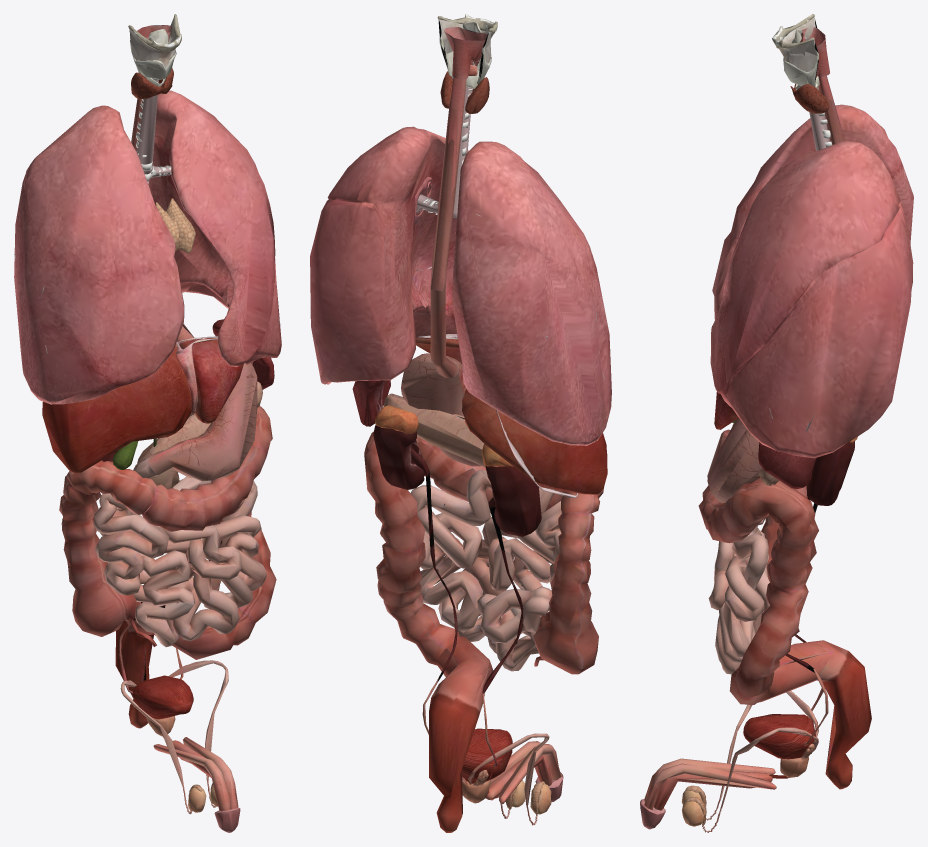
The model's file is organs.glb.
3 views of the same model, side by side, from view 1: azimuth 30°, elevation 25°; view 2: azimuth 150°, elevation 25°; view 3: azimuth 270°, elevation 25° (orthographic). The views are drawn at different scales.
Visible parts, largest first — view 1: lungs, colon, small_intestine, liver_right, stomach, liver_left, bladder, corpus_cavernosum, bronchi, vas_deferens, pancreas, thymus (+7 smaller); view 2: lungs, colon, small_intestine, liver_right, kidneys, esophagus, stomach, pancreas, ureter, bladder, corpus_cavernosum, pharynx (+8 smaller); view 3: lungs, colon, small_intestine, stomach, corpus_cavernosum, bladder, kidneys, spleen, vas_deferens, thyrohyoid_membrane, corpus_spongiosum, thyroid (+8 smaller).
Part boxes in pixels (left/top/right/bottom): lungs: left=14, top=90, right=281, bottom=404; colon: left=59, top=406, right=276, bottom=728; small_intestine: left=93, top=457, right=266, bottom=647; liver_right: left=42, top=345, right=194, bottom=473; stomach: left=147, top=363, right=257, bottom=481; liver_left: left=179, top=338, right=243, bottom=423; bladder: left=132, top=675, right=193, bottom=719; corpus_cavernosum: left=153, top=737, right=238, bottom=812; bronchi: left=14, top=78, right=280, bottom=355; vas_deferens: left=120, top=660, right=228, bottom=814; pancreas: left=137, top=381, right=262, bottom=488; thymus: left=155, top=198, right=195, bottom=253; lungs: left=310, top=126, right=611, bottom=445; colon: left=364, top=431, right=603, bottom=832; small_intestine: left=411, top=469, right=589, bottom=671; liver_right: left=462, top=389, right=607, bottom=494; kidneys: left=373, top=425, right=541, bottom=536; esophagus: left=430, top=77, right=466, bottom=378; stomach: left=401, top=353, right=481, bottom=466; pancreas: left=383, top=393, right=485, bottom=467; ureter: left=411, top=446, right=523, bottom=766; bladder: left=462, top=728, right=512, bottom=783; corpus_cavernosum: left=490, top=741, right=561, bottom=803; pharynx: left=444, top=27, right=486, bottom=79; lungs: left=710, top=104, right=913, bottom=458; colon: left=698, top=424, right=871, bottom=789; small_intestine: left=708, top=518, right=771, bottom=674; stomach: left=707, top=418, right=762, bottom=502; corpus_cavernosum: left=644, top=758, right=776, bottom=809; bladder: left=743, top=714, right=815, bottom=759; kidneys: left=806, top=441, right=854, bottom=505; spleen: left=758, top=442, right=816, bottom=489; vas_deferens: left=702, top=690, right=818, bottom=832; thyrohyoid_membrane: left=779, top=17, right=818, bottom=71; corpus_spongiosum: left=654, top=771, right=772, bottom=810; thyroid: left=790, top=84, right=829, bottom=113.
Bounding box in the file's own units: 0.2683 × 0.8136 × 0.2515.
43 materials, 39 textured.
